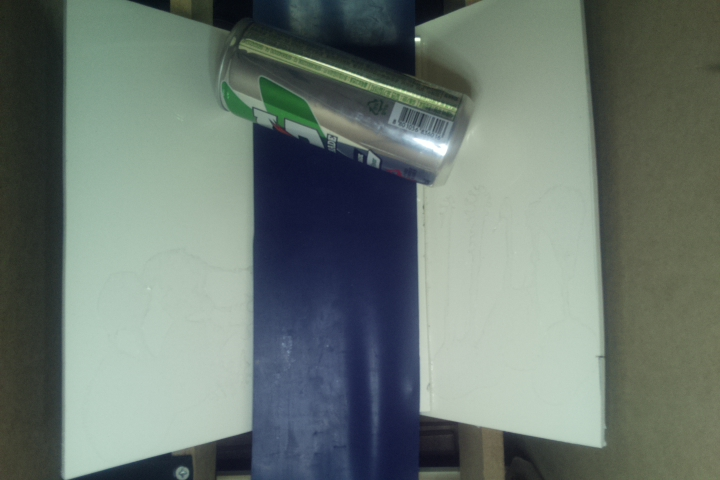can: (213, 15, 473, 188)
